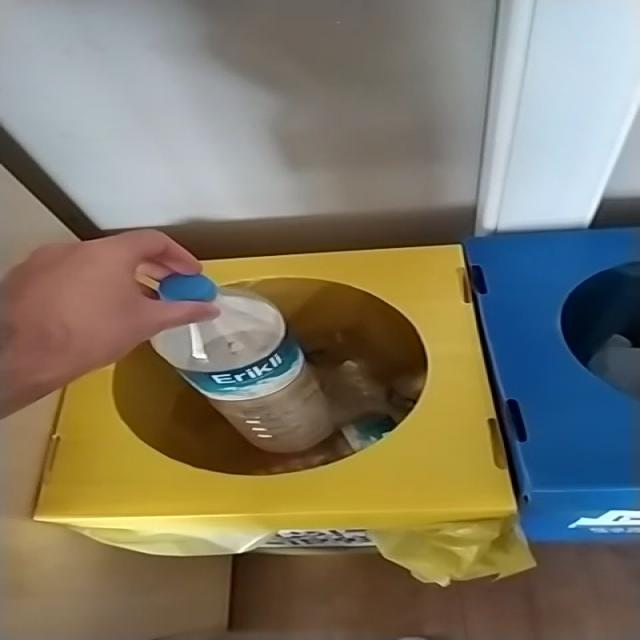plastic: (151, 274, 335, 453)
